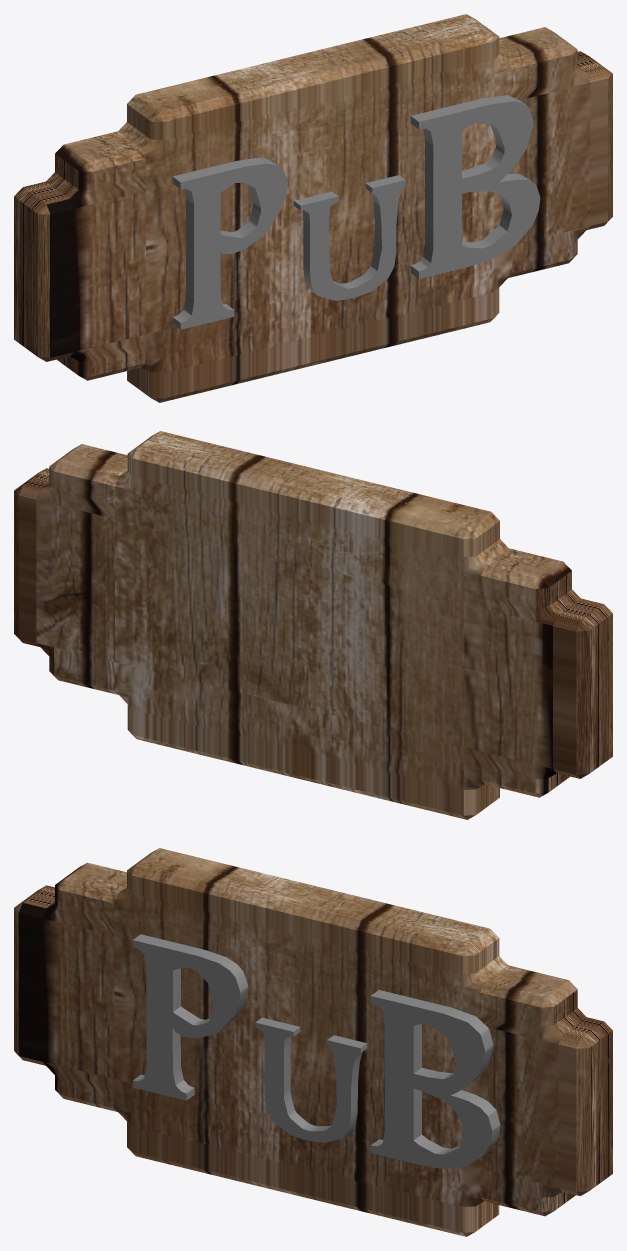
The model's file is pub_sign.fbx.
3 views of the same model, one above another, from view 1: azimuth 30°, elevation 25°; view 2: azimuth 150°, elevation 25°; view 3: azimuth 330°, elevation 25° (orthographic).
Parts seen in each view (by area): view 1: pCube1, Trim_Char_B_3_1, Trim_Char_P_3_1, Trim_Char_U_3_1; view 2: pCube1; view 3: pCube1, Trim_Char_B_3_1, Trim_Char_P_3_1, Trim_Char_U_3_1.
Part boxes in pixels (x1,y1,x2,y2): pCube1: [14, 14, 612, 402]; Trim_Char_B_3_1: [410, 95, 540, 278]; Trim_Char_P_3_1: [172, 157, 287, 329]; Trim_Char_U_3_1: [293, 175, 405, 300]; pCube1: [14, 431, 612, 819]; pCube1: [14, 848, 612, 1236]; Trim_Char_B_3_1: [370, 990, 500, 1169]; Trim_Char_P_3_1: [133, 934, 248, 1100]; Trim_Char_U_3_1: [255, 1017, 367, 1142].
Bounding box in the file's own units: 4.43 × 2.14 × 0.5332.
